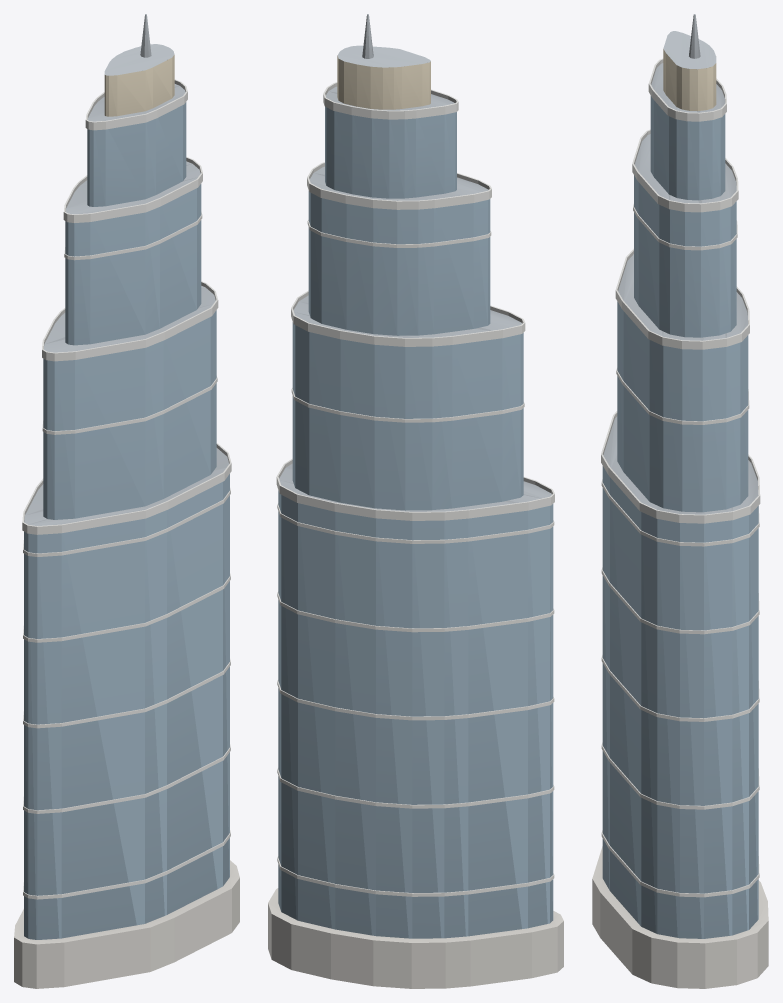
The model's file is address_downtown.glb.
3 views of the same model, side by side, from view 1: azimuth 30°, elevation 25°; view 2: azimuth 150°, elevation 25°; view 3: azimuth 270°, elevation 25° (orthographic). The views are drawn at different scales.
Visible parts, largest first — view 1: address_downtown; view 2: address_downtown; view 3: address_downtown.
Part boxes in pixels (x1=…): address_downtown: x1=14, y1=14, x2=239, y2=988; address_downtown: x1=268, y1=14, x2=563, y2=988; address_downtown: x1=592, y1=14, x2=768, y2=988.
Bounding box in the file's own units: 85.2 × 306 × 52.46.
